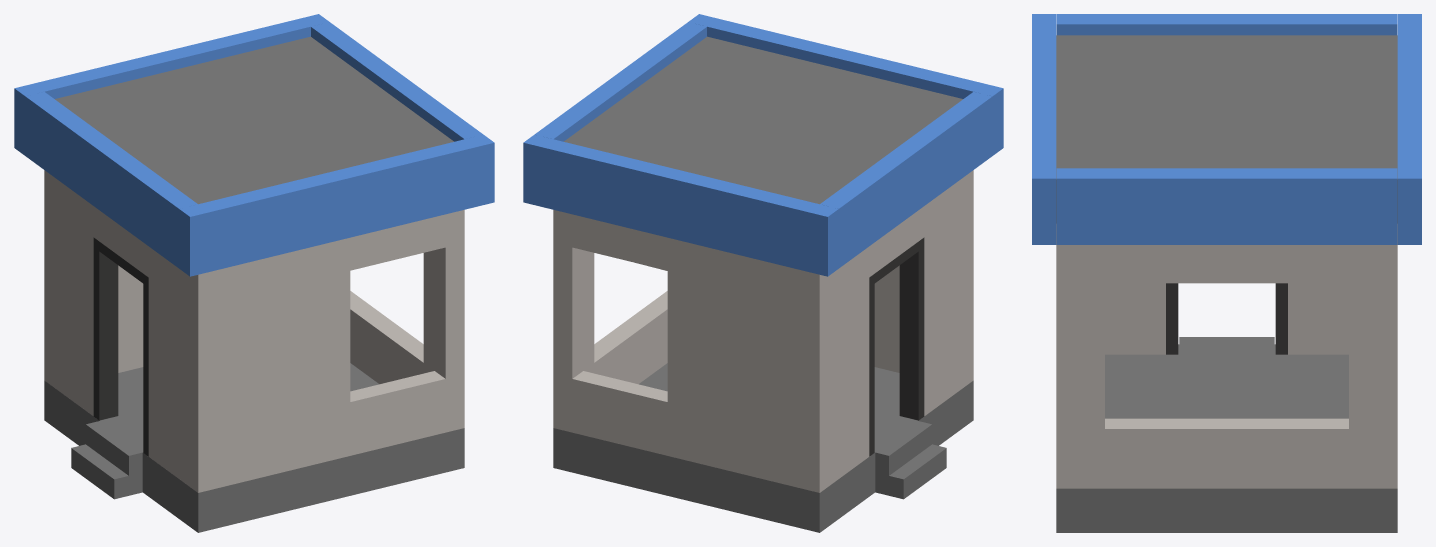
File: guard_house_breakable.fbx
3 renders of one model, left to right at view 1: azimuth 30°, elevation 25°; view 2: azimuth 150°, elevation 25°; view 3: azimuth 270°, elevation 25°, orthographic. The views are drawn at different scales.
Parts seen in each view (by area): view 1: Wall_window_right, roof, border_right, Floor, Wall_window_left_cell.002, border_back, roof_cell.001, Wall_window_left_cell.001_cell.003, Wall_Door_cell, border_right_cell, roof_cell_cell, border_left (+23 smaller); view 2: Wall_window_left, roof, border_left, Floor, Wall_window_left_cell.001_cell, roof_cell.001, Wall_window_left_cell, border_back, Wall_Door_cell, roof_cell_cell, border_right_cell.002, Wall_Door_cell.001_cell.001 (+25 smaller); view 3: roof, Wall_winwod_middle, Floor, border_front, Wall_winwod_middle_cell.001, border_front_cell.001, Wall_Door, Wall_window_left, Wall_window_right, border_left, border_right, border_back (+17 smaller).
Boxes of the visible parts, x1=… form: Wall_window_right: x1=187, y1=210, x2=464, y2=492; roof: x1=55, y1=36, x2=453, y2=203; border_right: x1=179, y1=135, x2=494, y2=276; Floor: x1=44, y1=363, x2=464, y2=532; Wall_window_left_cell.002: x1=235, y1=210, x2=464, y2=483; border_back: x1=25, y1=96, x2=197, y2=267; roof_cell.001: x1=132, y1=114, x2=437, y2=203; Wall_window_left_cell.001_cell.003: x1=187, y1=249, x2=350, y2=406; Wall_Door_cell: x1=148, y1=263, x2=187, y2=484; border_right_cell: x1=333, y1=134, x2=494, y2=235; roof_cell_cell: x1=203, y1=64, x2=385, y2=136; border_left: x1=14, y1=14, x2=328, y2=155; Wall_window_left: x1=553, y1=210, x2=830, y2=492; roof: x1=567, y1=36, x2=962, y2=204; border_left: x1=523, y1=135, x2=838, y2=276; Floor: x1=553, y1=363, x2=973, y2=532; Wall_window_left_cell.001_cell: x1=667, y1=246, x2=830, y2=410; roof_cell.001: x1=632, y1=50, x2=942, y2=155; Wall_window_left_cell: x1=553, y1=210, x2=783, y2=483; border_back: x1=821, y1=94, x2=992, y2=268; Wall_Door_cell: x1=924, y1=178, x2=962, y2=415; roof_cell_cell: x1=590, y1=93, x2=809, y2=163; border_right_cell.002: x1=675, y1=174, x2=837, y2=276; Wall_Door_cell.001_cell.001: x1=830, y1=224, x2=899, y2=382; roof: x1=1056, y1=35, x2=1397, y2=223; Wall_winwod_middle: x1=1080, y1=245, x2=1373, y2=488; Floor: x1=1056, y1=337, x2=1397, y2=532; border_front: x1=1056, y1=168, x2=1397, y2=244; Wall_winwod_middle_cell.001: x1=1174, y1=245, x2=1373, y2=488; border_front_cell.001: x1=1227, y1=168, x2=1397, y2=244; Wall_Door: x1=1105, y1=283, x2=1348, y2=354; Wall_window_left: x1=1373, y1=224, x2=1397, y2=488; Wall_window_right: x1=1056, y1=224, x2=1080, y2=488; border_left: x1=1397, y1=14, x2=1421, y2=244; border_right: x1=1032, y1=14, x2=1056, y2=244; border_back: x1=1056, y1=14, x2=1392, y2=35.
Bounding box in the file's own units: 330 × 330 × 320.
